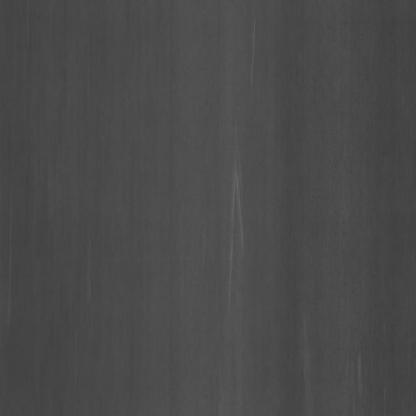silk_spot: (219, 139, 260, 300)
